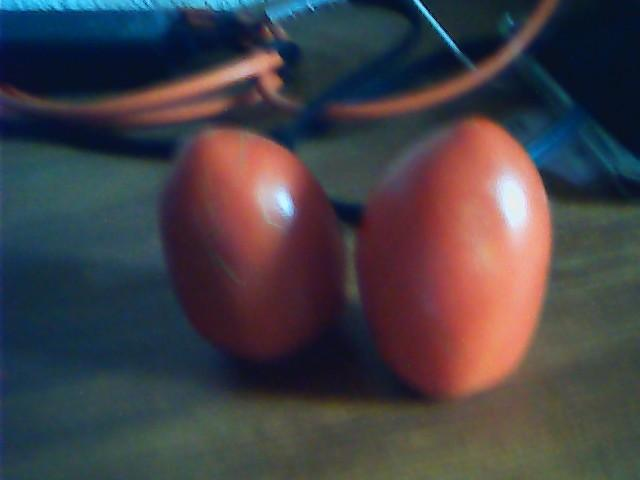maduro: (359, 116, 554, 402), (159, 127, 345, 369)
